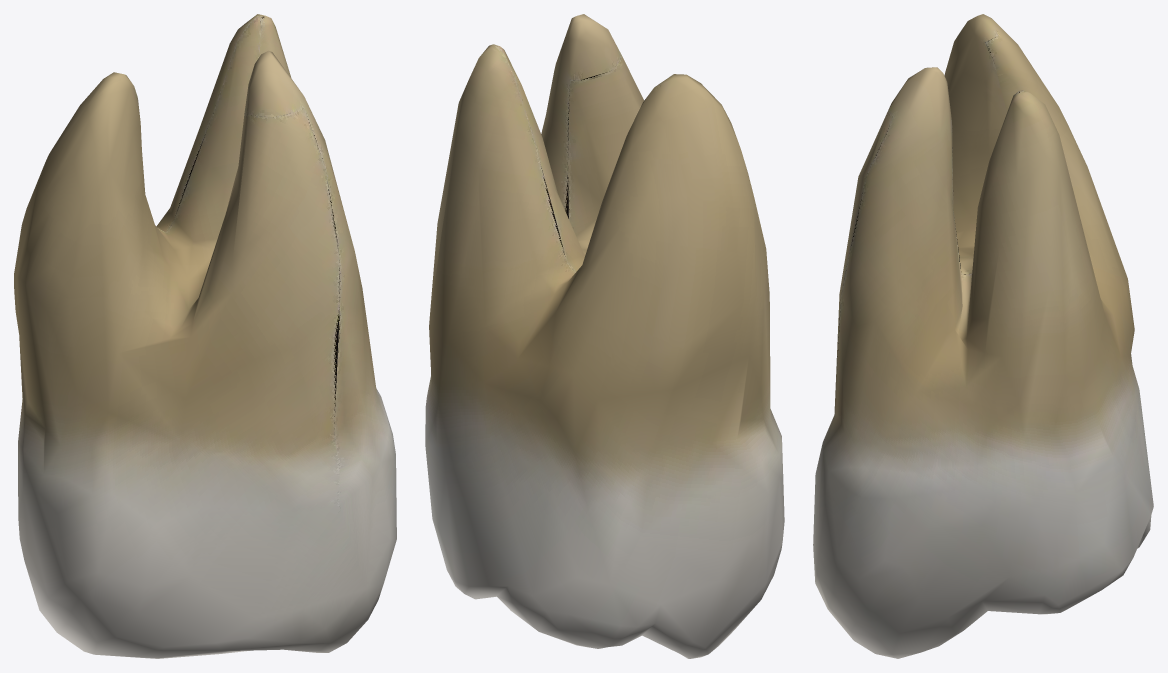
Rendered from maxillary_second_molar.glb.
3 renders of one model, left to right at view 1: azimuth 30°, elevation 25°; view 2: azimuth 150°, elevation 25°; view 3: azimuth 270°, elevation 25°, orthographic. The views are drawn at different scales.
Visible parts, largest first — view 1: Object_2; view 2: Object_2; view 3: Object_2.
Boxes of the visible parts, x1,y1,x2,y2 form: Object_2: (14,14,396,658); Object_2: (425,14,784,658); Object_2: (813,14,1153,658).
Bounding box in the file's own units: 0.9283 × 1.58 × 0.8508.
1 material, 1 textured.
